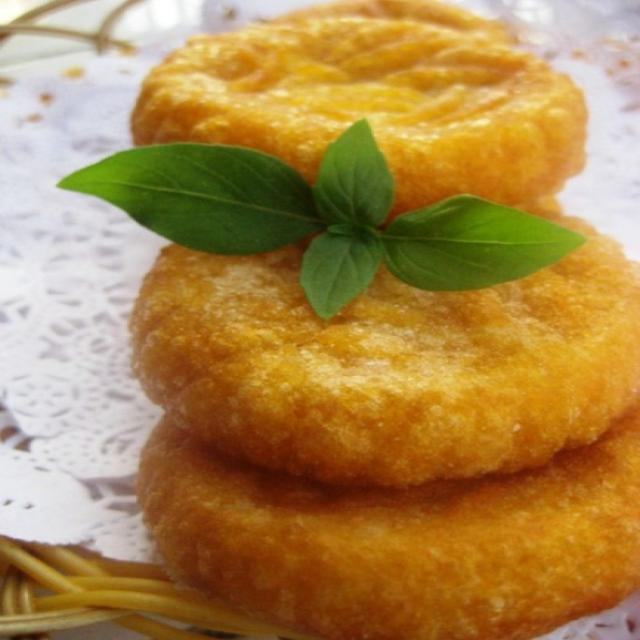炸货点心: (29, 10, 620, 618)
蛋糕甜品: (29, 10, 620, 618)
